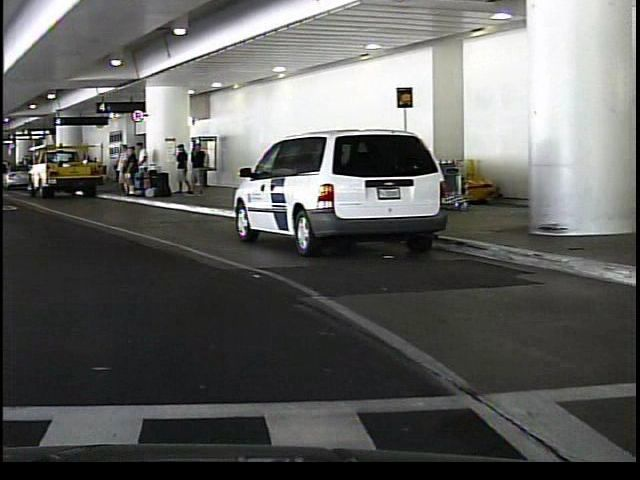person: (185, 139, 204, 198), (110, 141, 125, 198)
